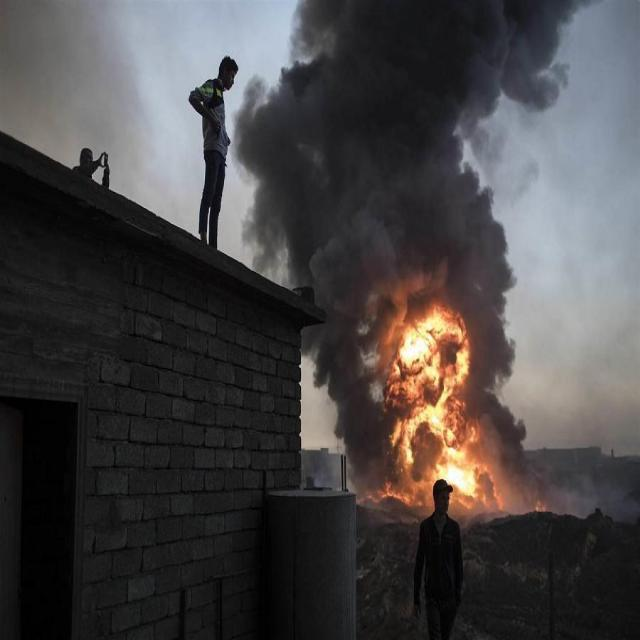Fire: (378, 282, 502, 516), (535, 498, 547, 512)
Smoke: (265, 6, 577, 308), (304, 309, 384, 489), (476, 312, 548, 484), (232, 80, 272, 270), (556, 464, 640, 524)
